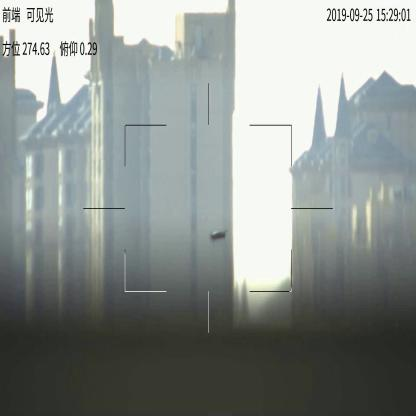uav: (210, 230, 226, 241)
